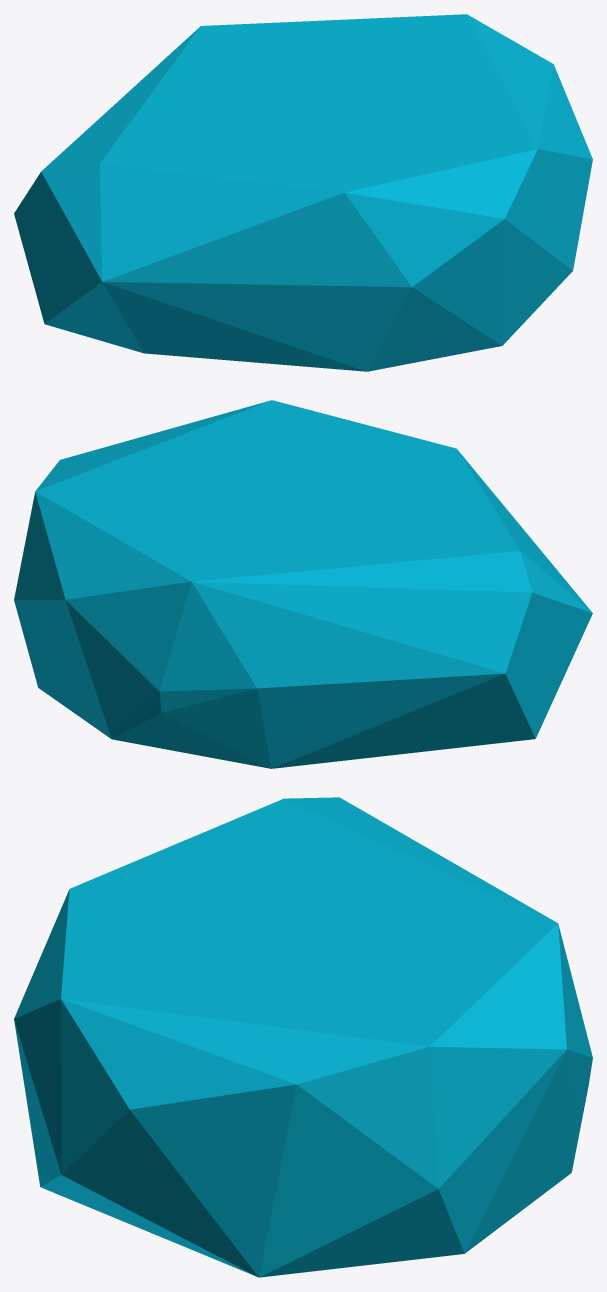
File: toe-A-rod_convex_piece_001.obj
3 renders of one model, top to bottom at view 1: azimuth 30°, elevation 25°; view 2: azimuth 150°, elevation 25°; view 3: azimuth 270°, elevation 25°, orthographic. The views are drawn at different scales.
Size of the model in its own units: 0.0188 by 0.00668 by 0.016.
